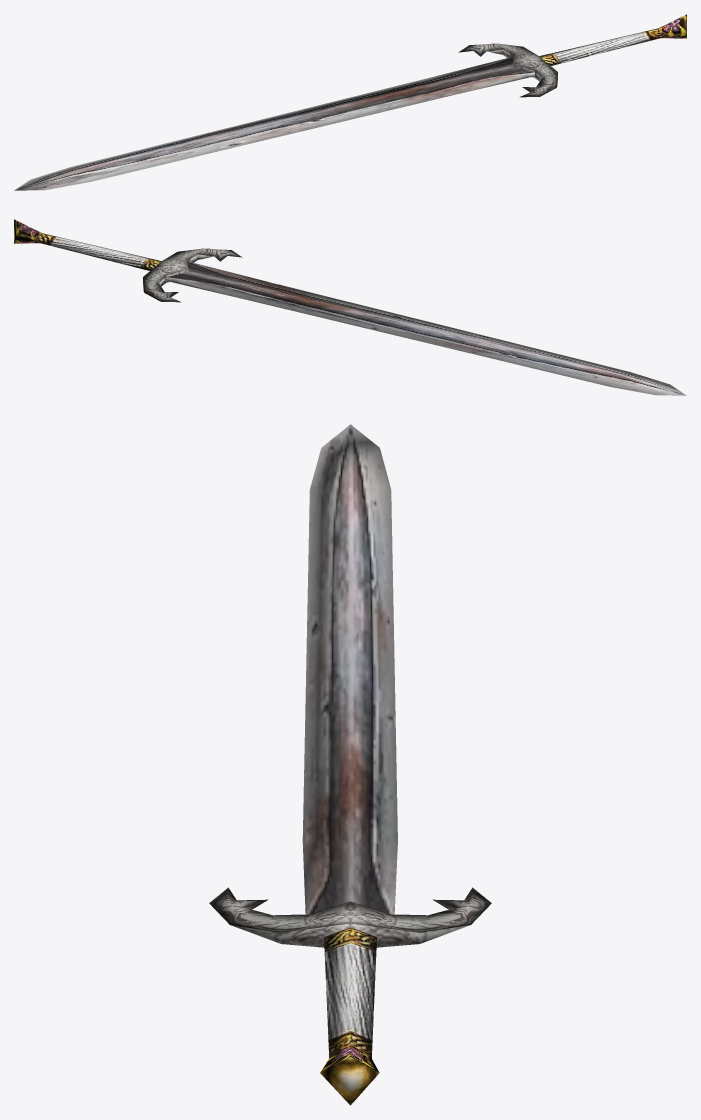
The model's file is ITMW_030_1H_PAL_SWORD_BASTARD_RAW_01.glb.
3 renders of one model, top to bottom at view 1: azimuth 30°, elevation 25°; view 2: azimuth 150°, elevation 25°; view 3: azimuth 270°, elevation 25°, orthographic. The views are drawn at different scales.
Parts seen in each view (by area): view 1: Mesh; view 2: Mesh; view 3: Mesh.
Boxes of the visible parts, <box> form: Mesh: <box>14,14,686,190</box>; Mesh: <box>14,219,686,395</box>; Mesh: <box>209,424,491,1105</box>.
Bounding box in the file's own units: 1.29 × 0.0449 × 0.235.
2 materials, 2 textured.
